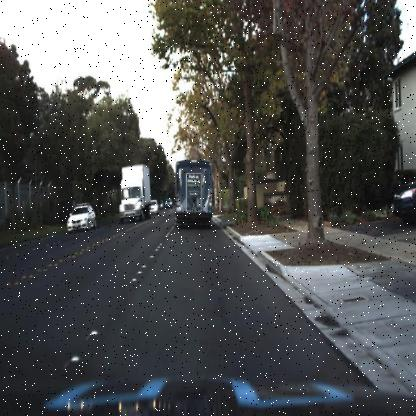car: (115, 162, 152, 222), (391, 176, 416, 228), (62, 198, 95, 234), (146, 197, 162, 217)
truck: (174, 157, 214, 230), (117, 160, 151, 222)
